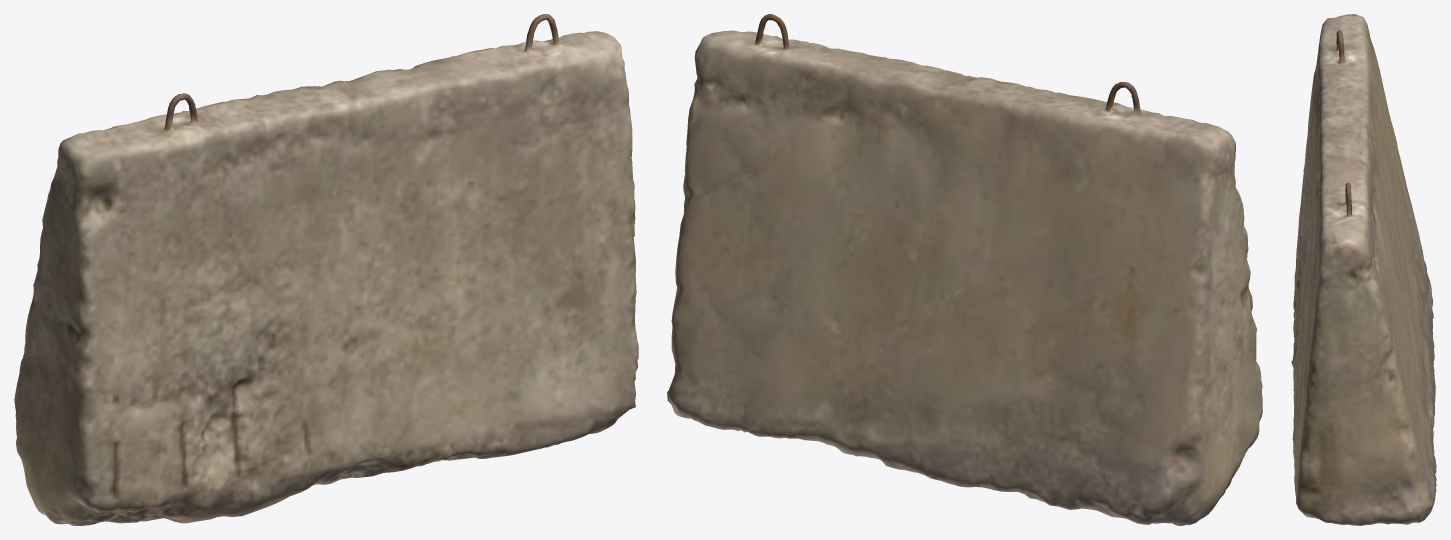
File: concrete_road_barrier_02_lod1.glb
The picture shows the model from 3 angles, left to right: view 1: azimuth 30°, elevation 25°; view 2: azimuth 150°, elevation 25°; view 3: azimuth 270°, elevation 25°; orthographic projection. The views are drawn at different scales.
Visible parts, largest first — view 1: concrete_road_barrier_02; view 2: concrete_road_barrier_02; view 3: concrete_road_barrier_02.
Part boxes in pixels (x1,y1,x2,y2): concrete_road_barrier_02: (14,14,638,525); concrete_road_barrier_02: (667,14,1262,525); concrete_road_barrier_02: (1291,14,1436,525).
Size of the model in its own units: 1.57 by 1.11 by 0.4422.
1 material, 1 textured.
